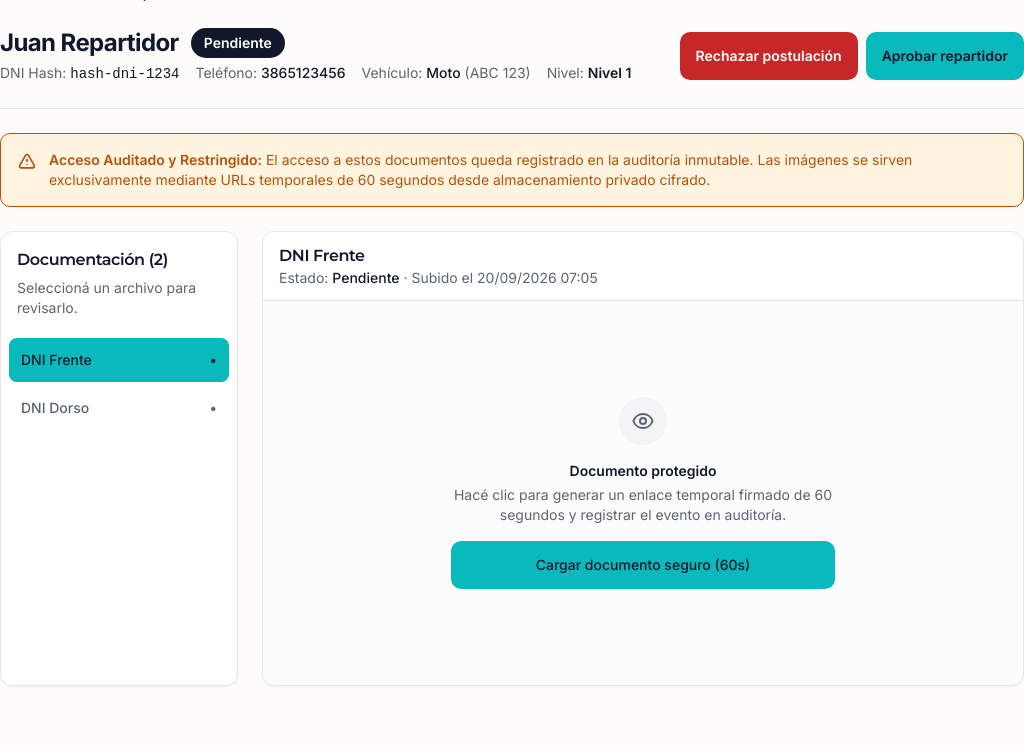
ApplicantDetailView (PR106-H14, PR106-H13, PR106-H16) › 7. Escape cierra el Dialog de rechazo y devuelve el foco al botón disparador
Click the button "Cargar documento seguro (60s)". click: click(643, 565)
box: [451,541,835,589]
(page scrolled)
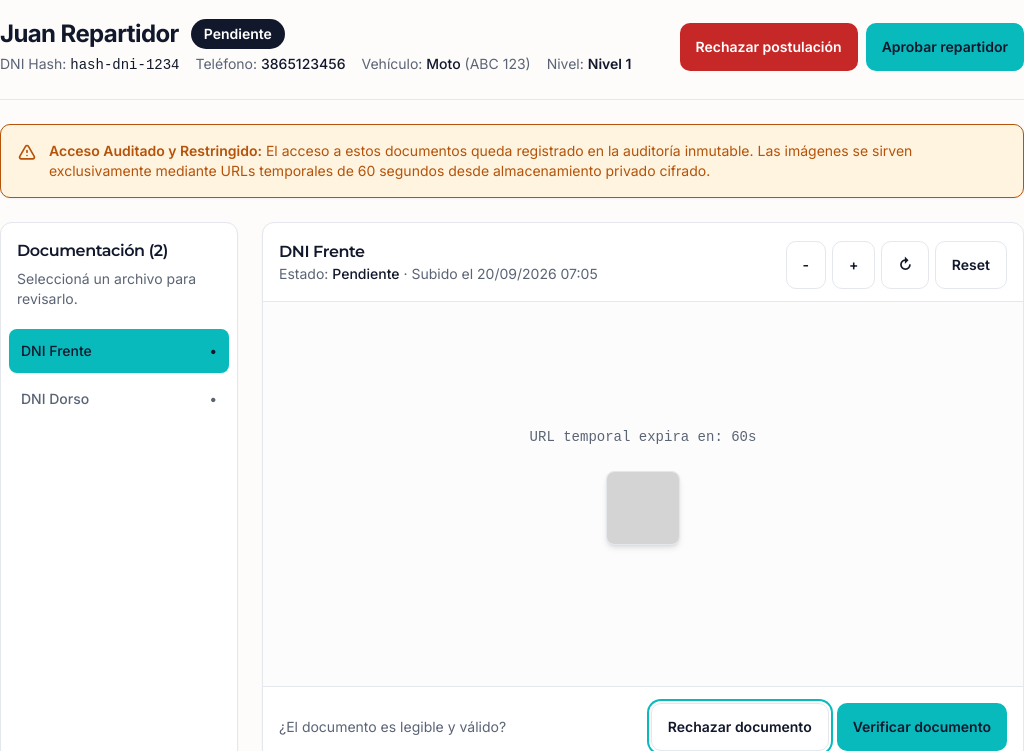
Click the button "Rechazar documento". click: click(740, 727)
box: [651,703,829,750]
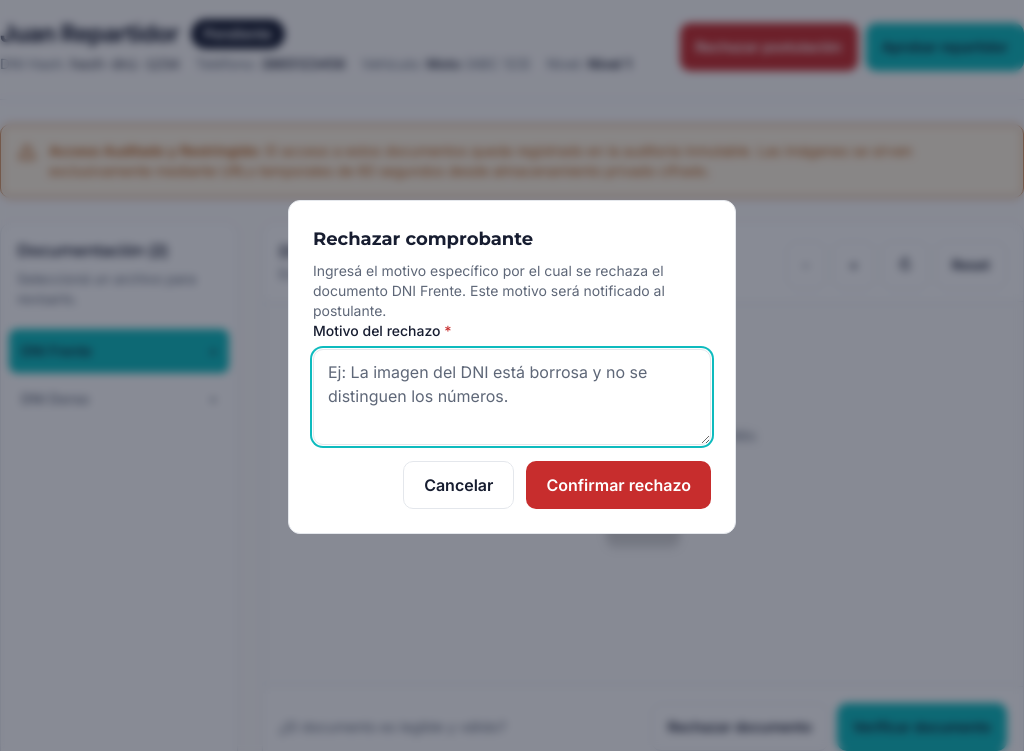
Check: the dialog is shown
Press Escape in the dialog, box [288,200,736,534]
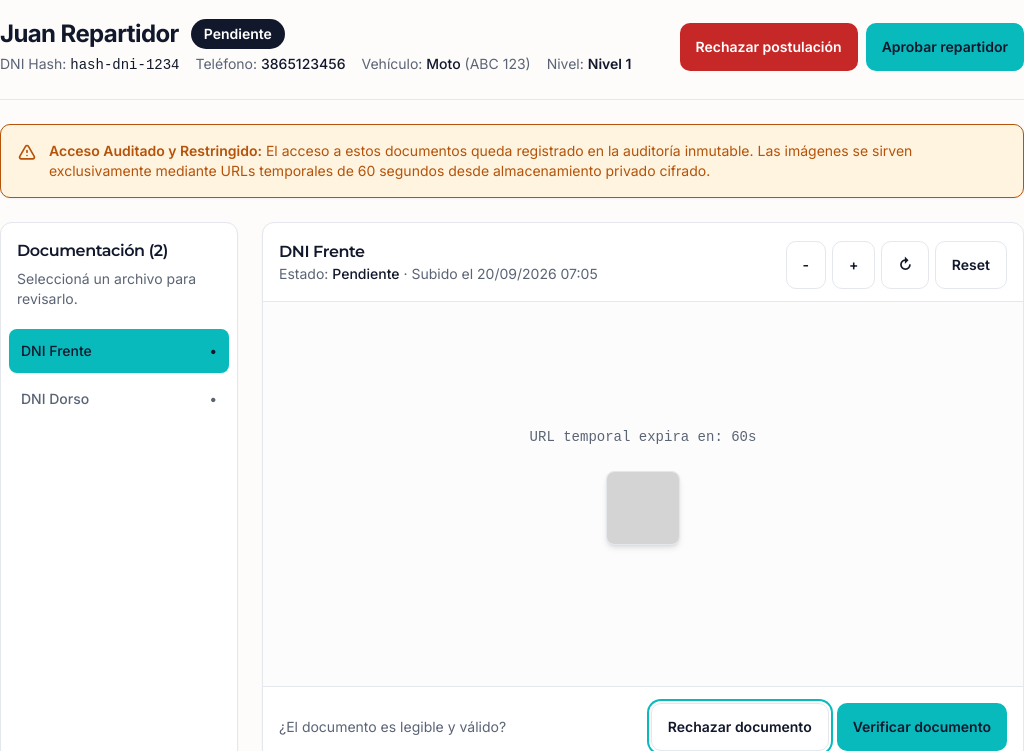
Check: the dialog is gone
